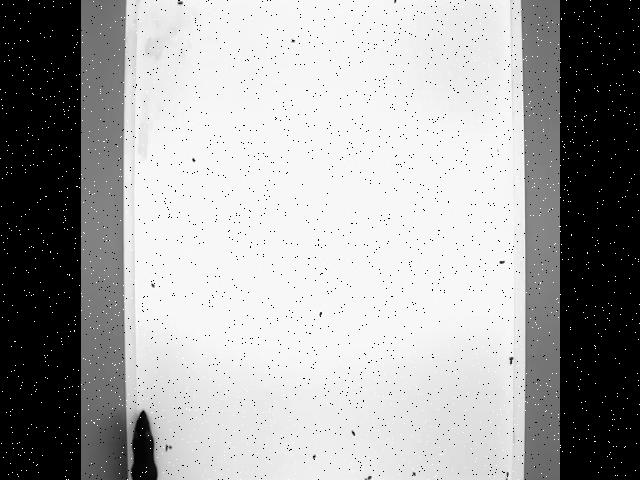Tikus: (128, 408, 209, 480)
